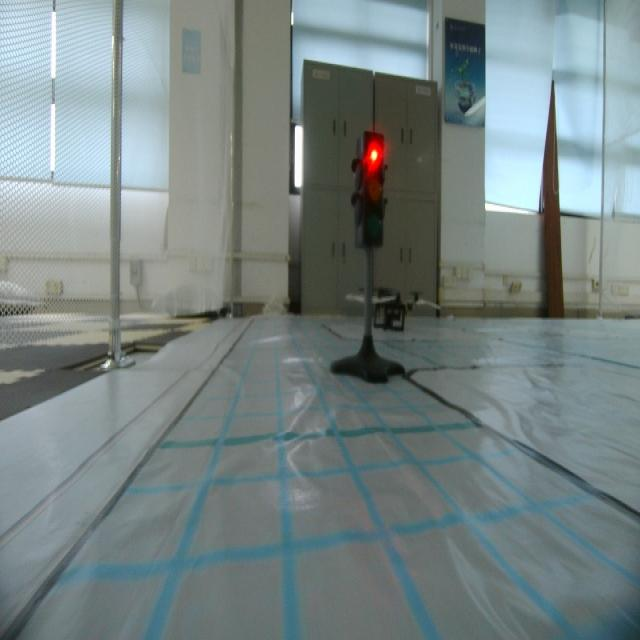red: (355, 120, 389, 253)
